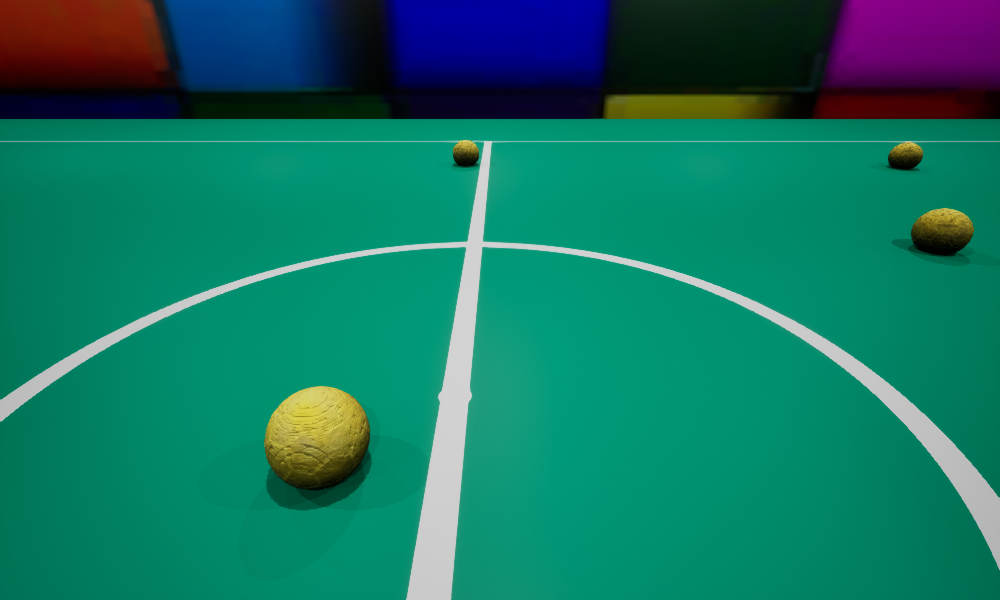b: (264, 386, 369, 489), (911, 208, 973, 253), (888, 142, 922, 168), (453, 140, 478, 165)
